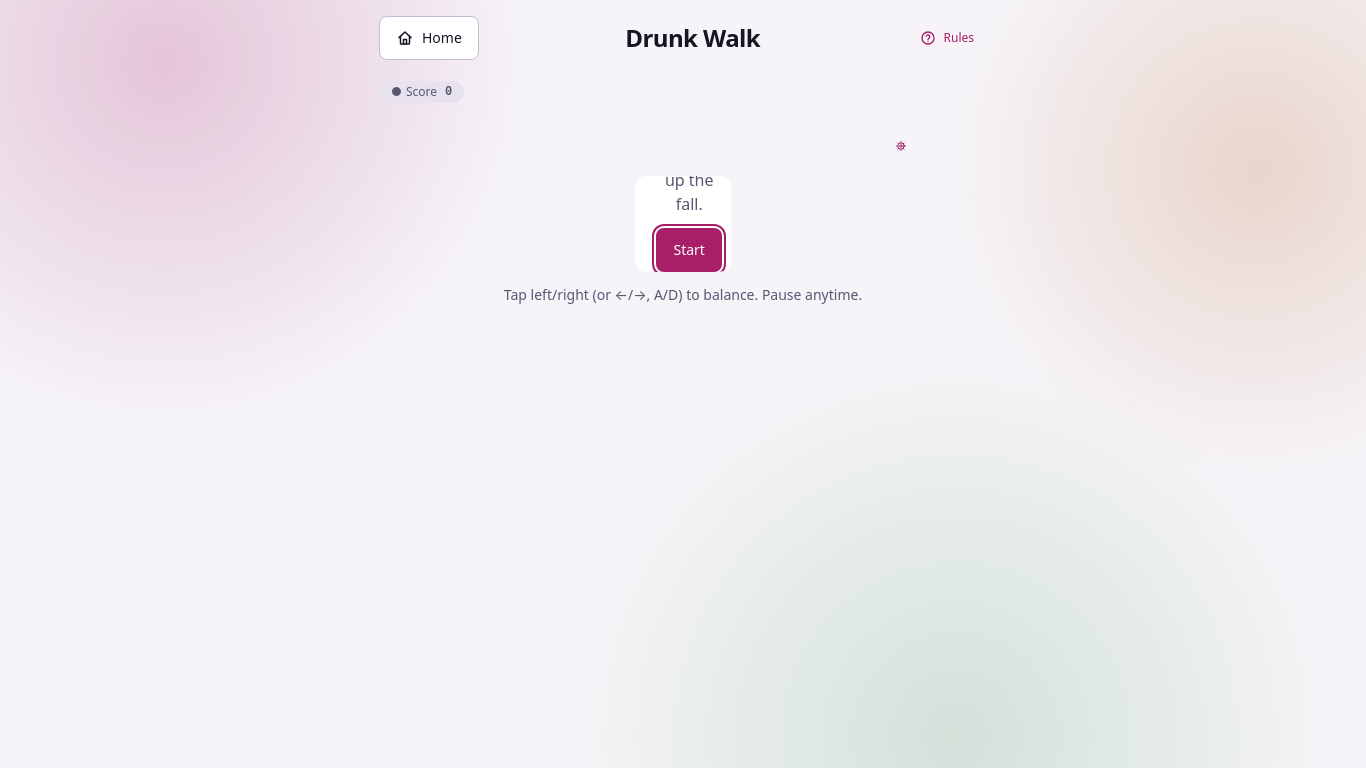
RealtimeGameRoute — Drunk Walk end-to-end › mounts the Drunk Walk scene, shows the rules explainer, and plays a real run through to game-over
(page scrolled)
Click the button "Start".
click(689, 250)  # box [656,228,722,272]
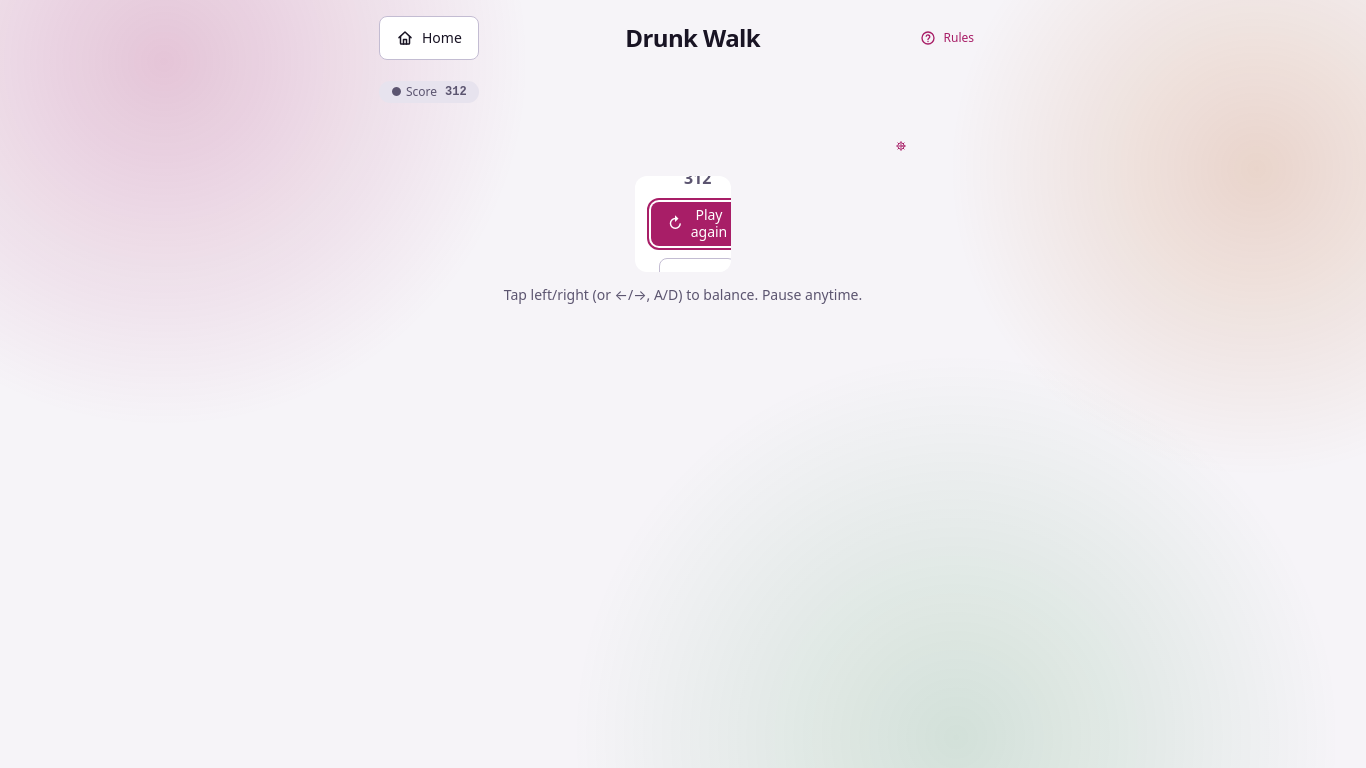
Expected: the button "↻ Play again" is shown, [651,202,731,246]
